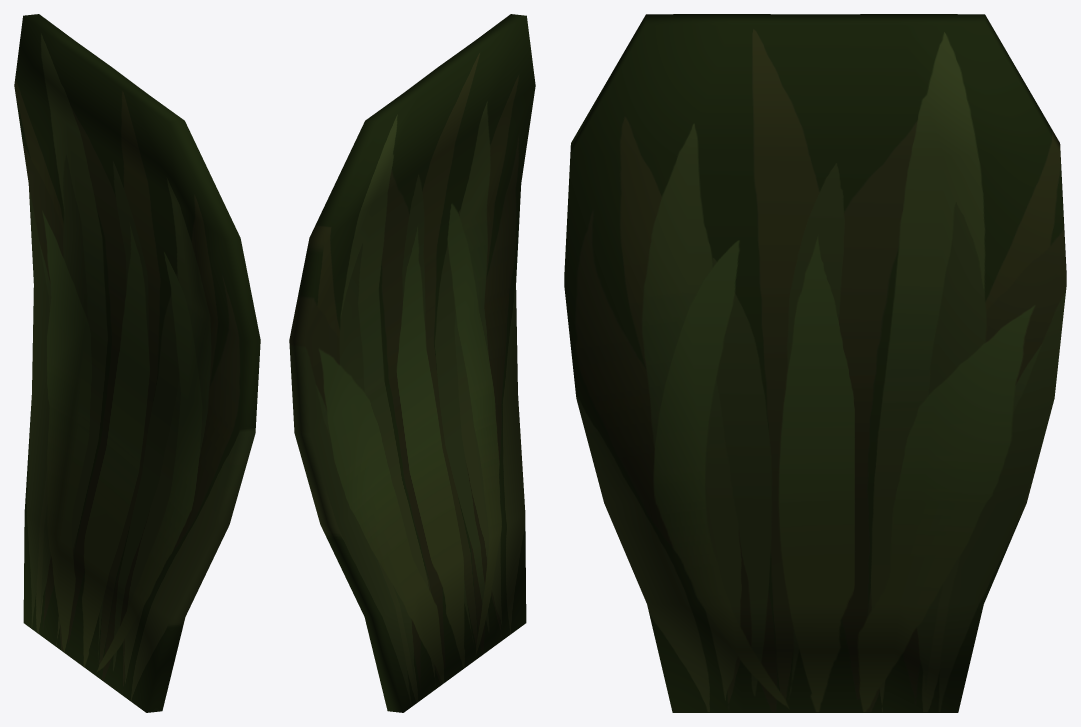
The model's file is grass.fbx.
3 views of the same model, side by side, from view 1: azimuth 30°, elevation 25°; view 2: azimuth 150°, elevation 25°; view 3: azimuth 270°, elevation 25° (orthographic). The views are drawn at different scales.
Parts seen in each view (by area): view 1: Plane; view 2: Plane; view 3: Plane.
Part boxes in pixels (x1,y1,x2,y2): Plane: (14, 14, 260, 712); Plane: (289, 14, 535, 712); Plane: (564, 14, 1066, 712).
Bounding box in the file's own units: 35.62 × 301 × 197.
